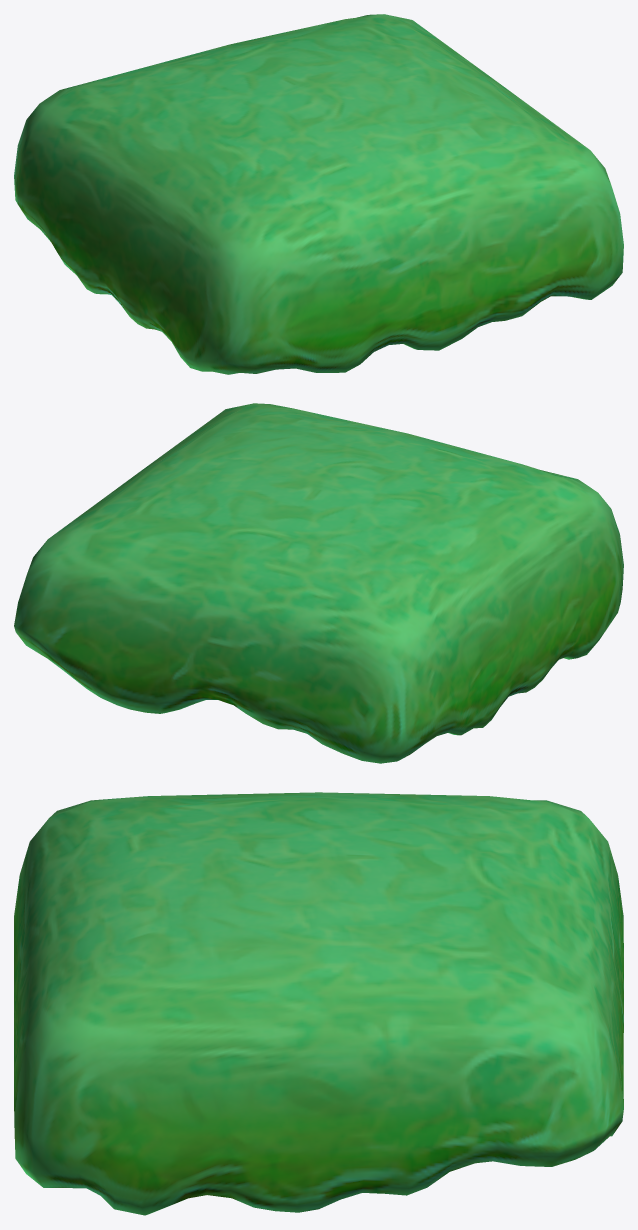
Rendered from Grass.fbx.
The picture shows the model from 3 angles, top to bottom: view 1: azimuth 30°, elevation 25°; view 2: azimuth 150°, elevation 25°; view 3: azimuth 270°, elevation 25°; orthographic projection. The views are drawn at different scales.
Visible parts, largest first — view 1: Grass; view 2: Grass; view 3: Grass.
Boxes of the visible parts, x1=… form: Grass: x1=14, y1=14, x2=623, y2=374; Grass: x1=14, y1=403, x2=623, y2=763; Grass: x1=14, y1=792, x2=623, y2=1215.
Bounding box in the file's own units: 107 × 45.26 × 107.
